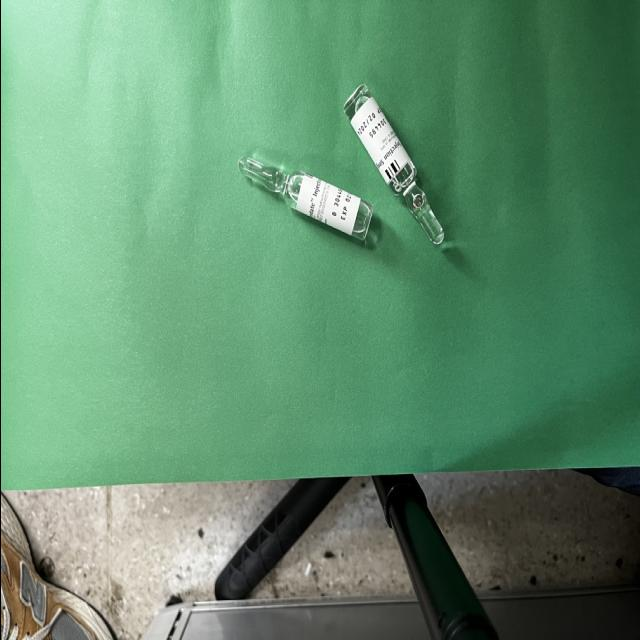Ampoules: (343, 87, 443, 245), (237, 157, 372, 241)
